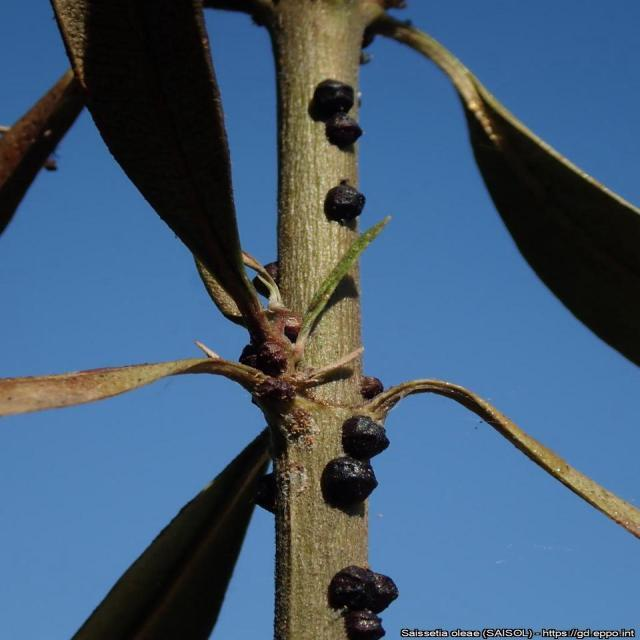BlackScale: (320, 416, 390, 513), (328, 566, 398, 640), (309, 80, 362, 151), (324, 179, 366, 228), (238, 341, 288, 377), (248, 377, 296, 409), (360, 376, 384, 400)
